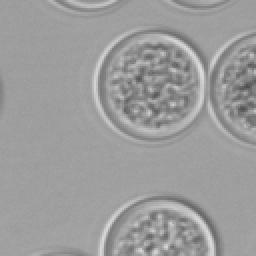picoshell: (94, 28, 204, 138), (98, 196, 218, 254), (208, 32, 254, 146), (46, 0, 118, 10), (164, 0, 228, 8)
